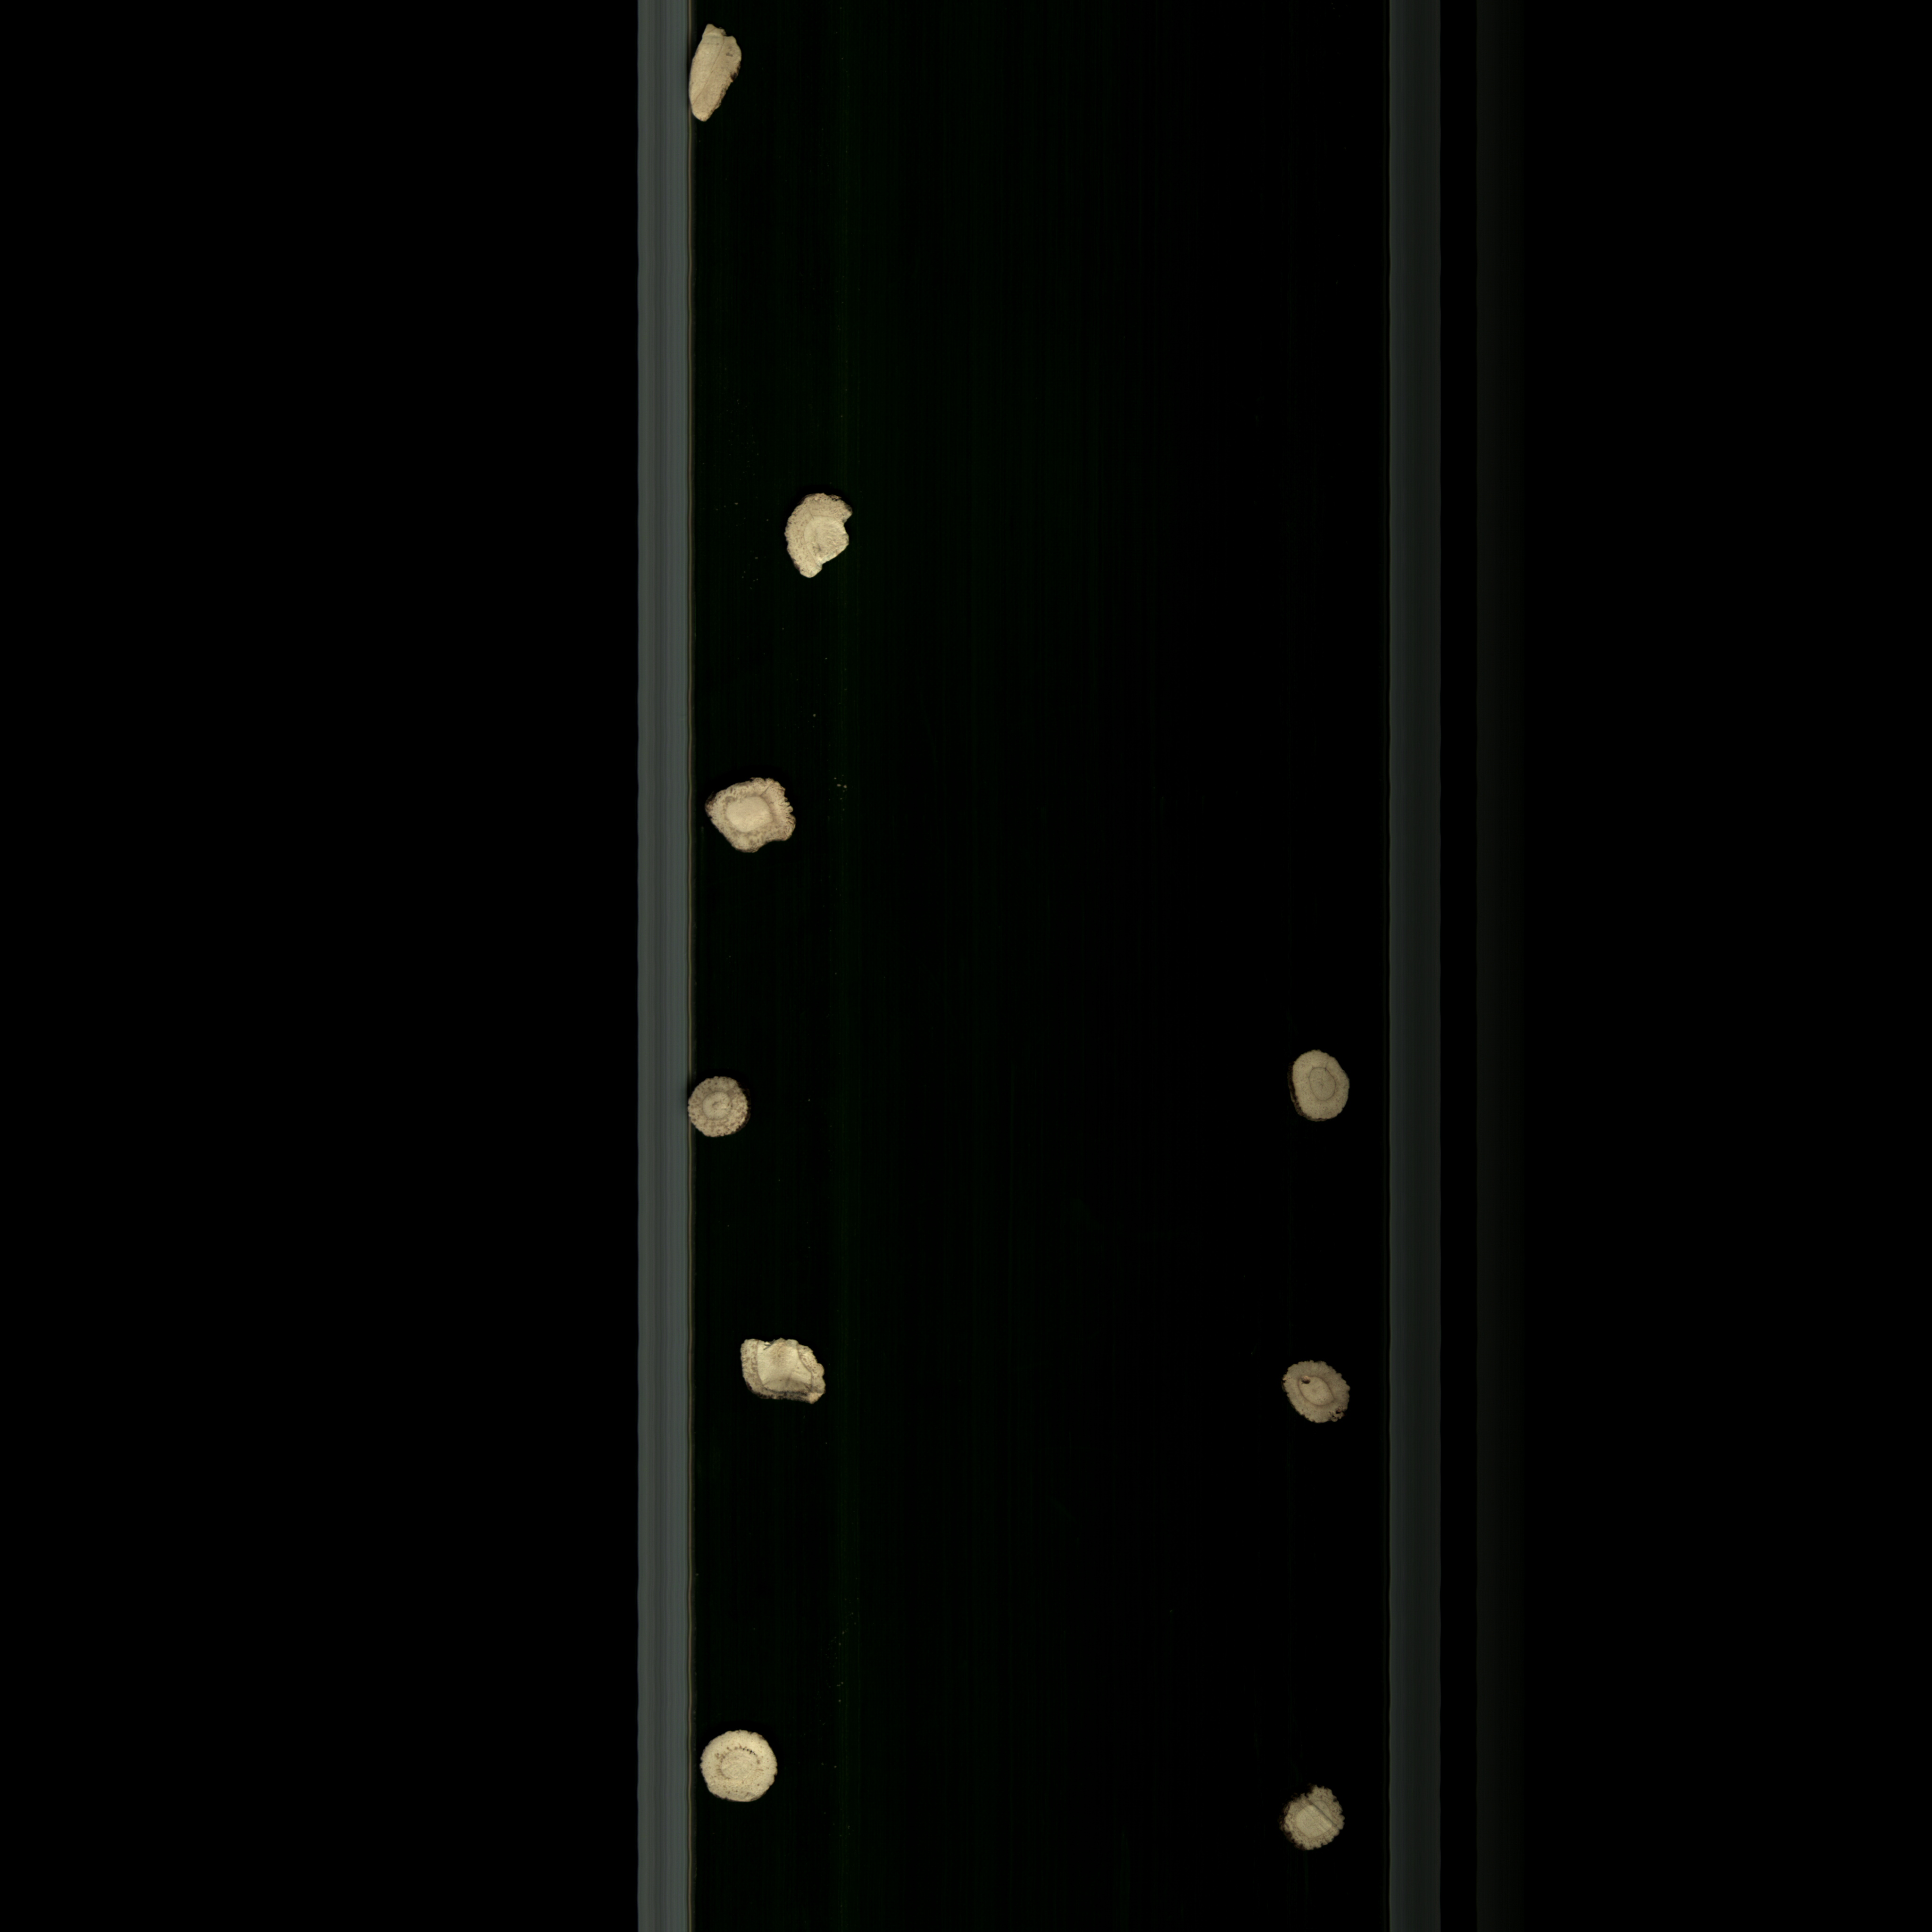debris: (780, 487, 876, 589), (685, 28, 757, 133)
moldy: (725, 1325, 862, 1419), (1263, 1352, 1369, 1437), (704, 777, 814, 856), (1281, 1049, 1359, 1136), (1276, 1776, 1353, 1863), (678, 1072, 763, 1146)
